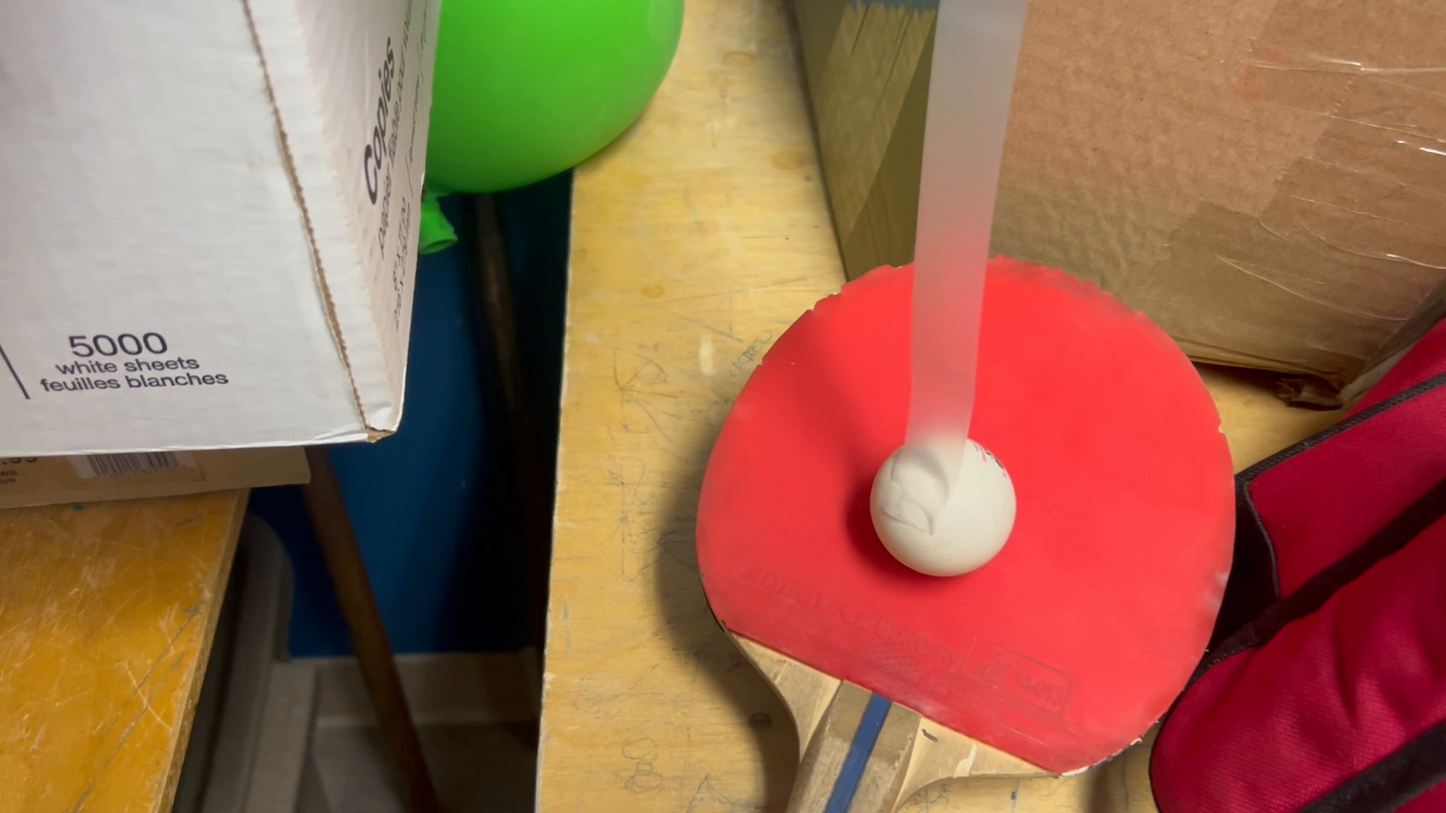Ball: (869, 432, 1022, 589)
